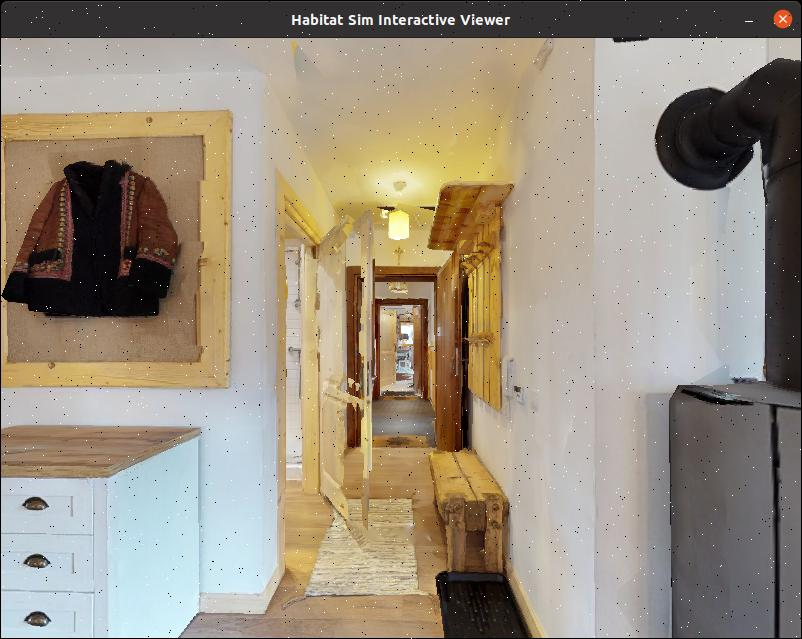door-frame: (269, 205, 340, 547), (347, 265, 456, 447)
